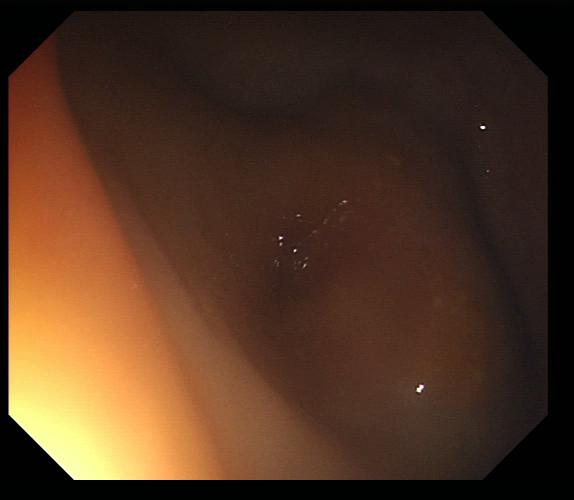polyp: (319, 259, 525, 429)
